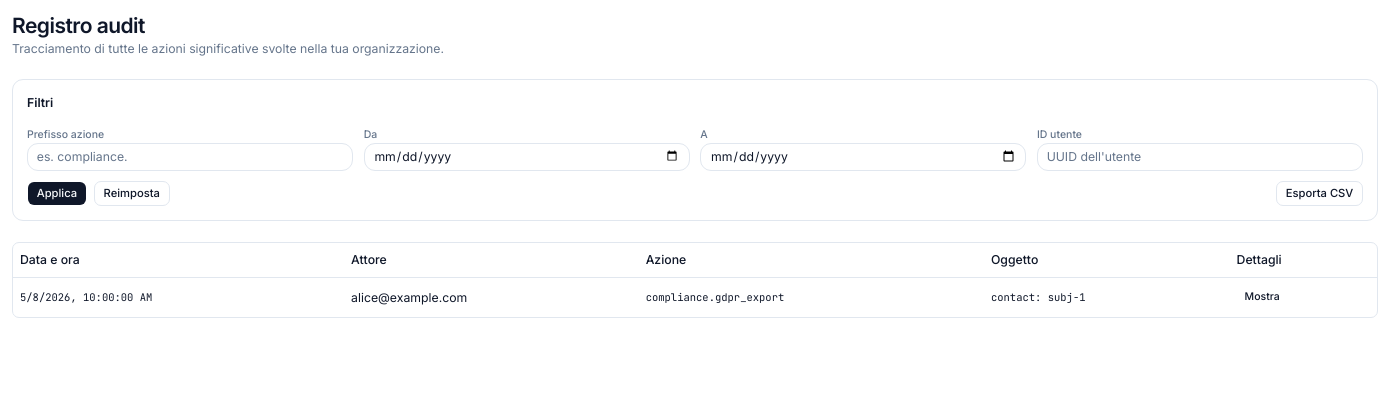
Scenario: AuditLogPageClient › expands metadata details on click
Expected: the text "\"foo\"" is not shown
Click the button "Mostra".
click(1262, 297)  # box 1237,285 -> 1288,310
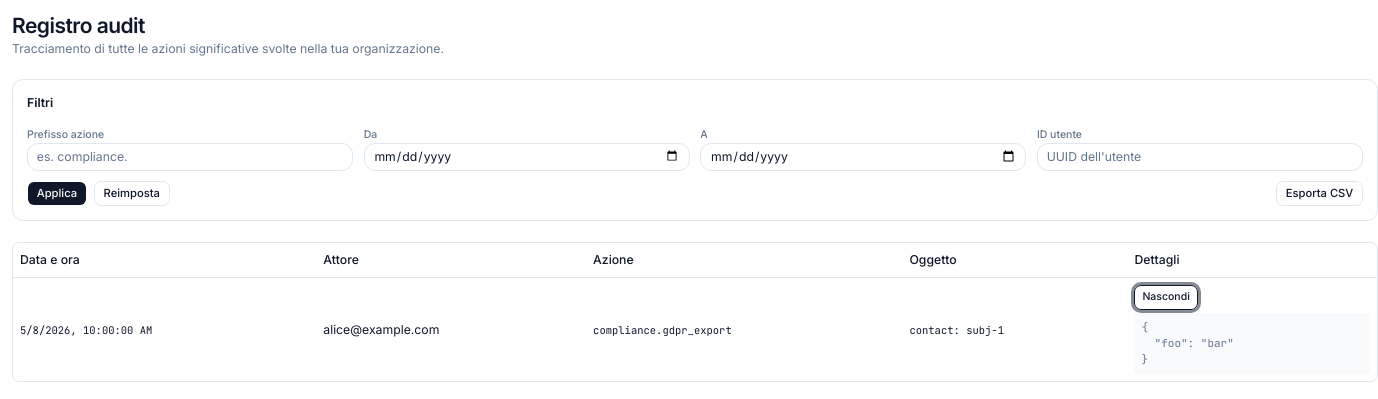
Expected: the text "{ \"foo\": \"bar\" }" is shown, 1134,313 -> 1370,374
Expected: the button "Nascondi" is shown, 1134,285 -> 1198,310
